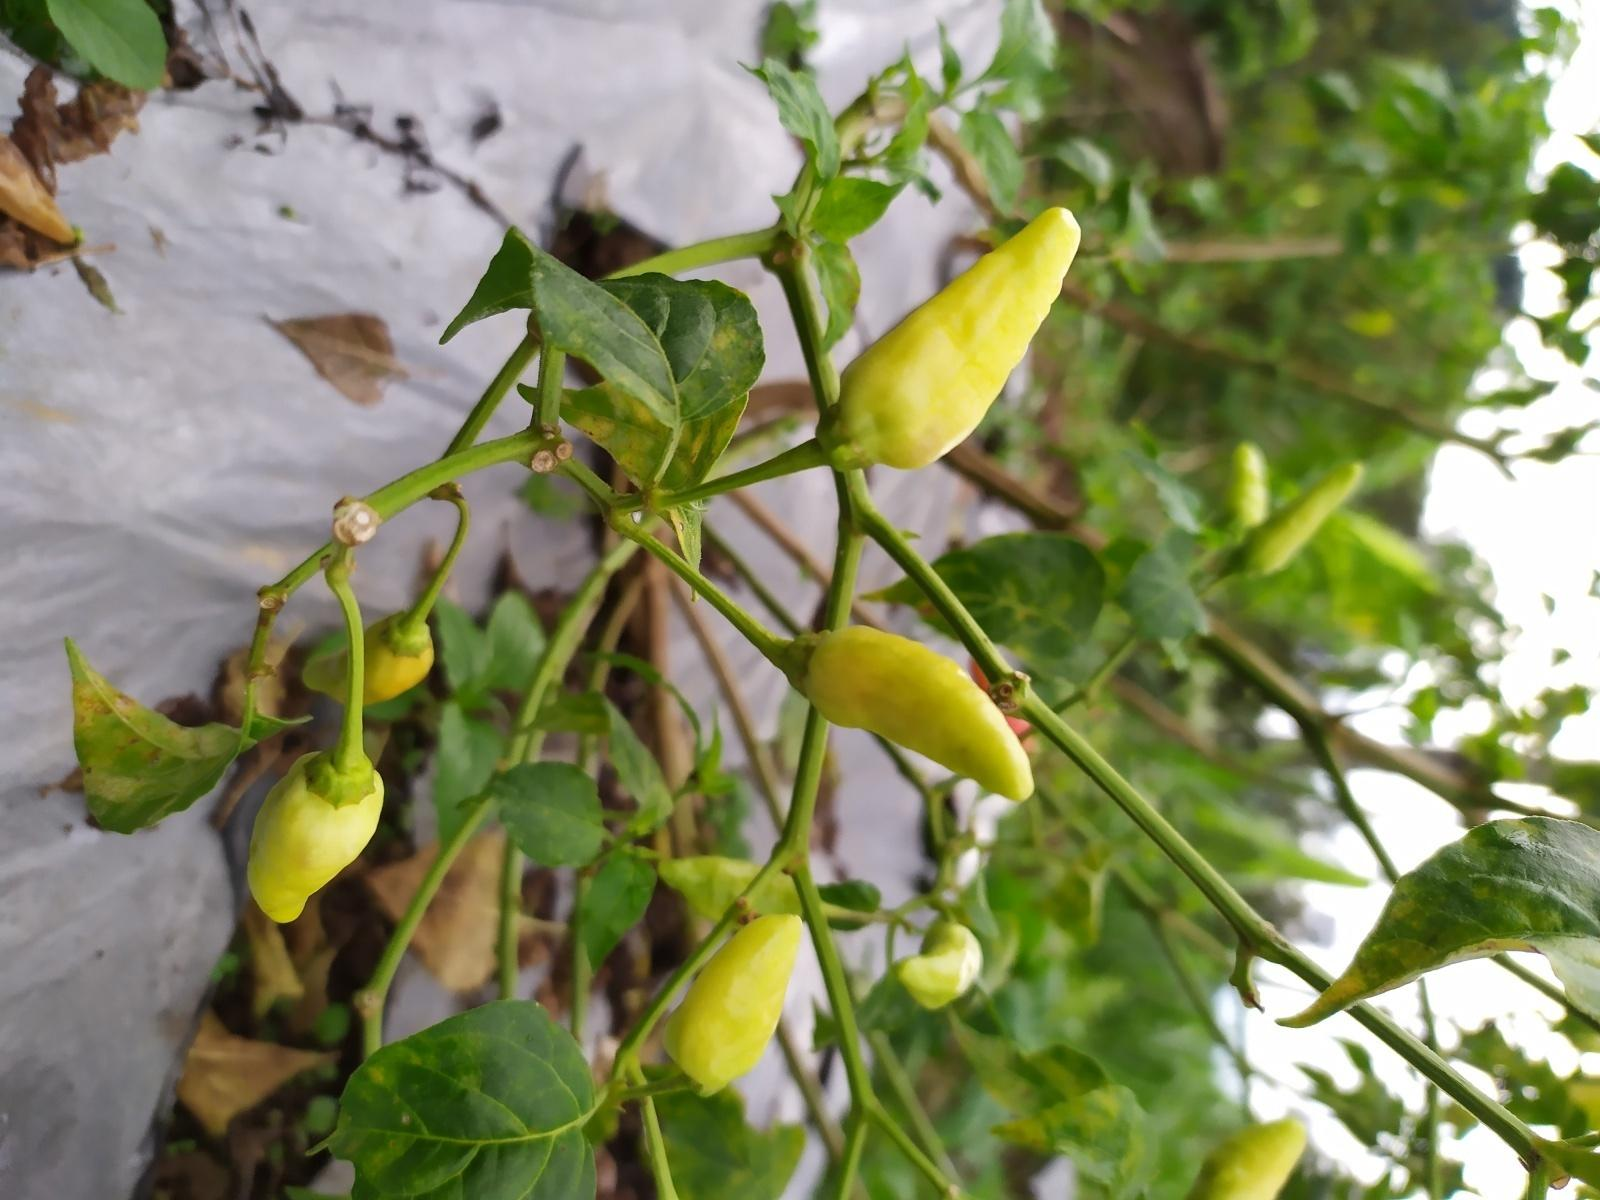cabai_normal: (837, 205, 1083, 470), (801, 624, 1033, 802), (659, 913, 805, 1100), (246, 753, 386, 925), (1249, 460, 1362, 577), (302, 610, 433, 708), (656, 853, 804, 926), (1192, 1116, 1308, 1200), (900, 925, 988, 1012)
